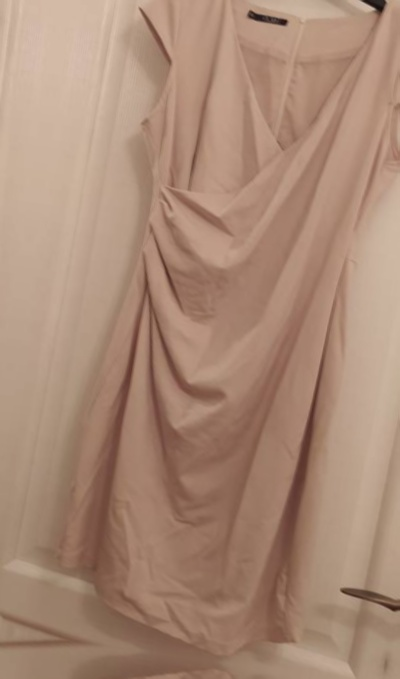Dress: (18, 0, 400, 664), (0, 0, 28, 598), (0, 655, 378, 679), (389, 22, 400, 679)
